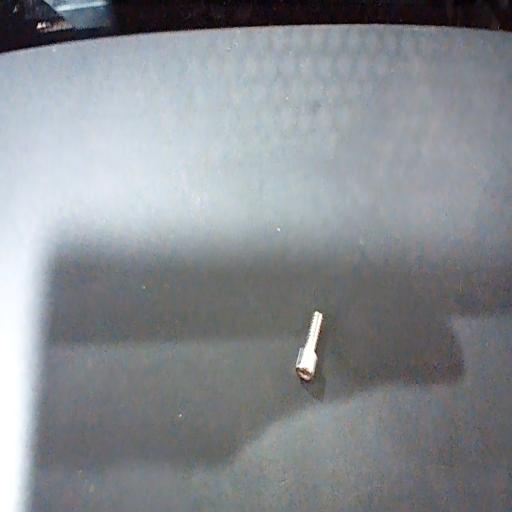screw: (296, 311, 323, 382)
